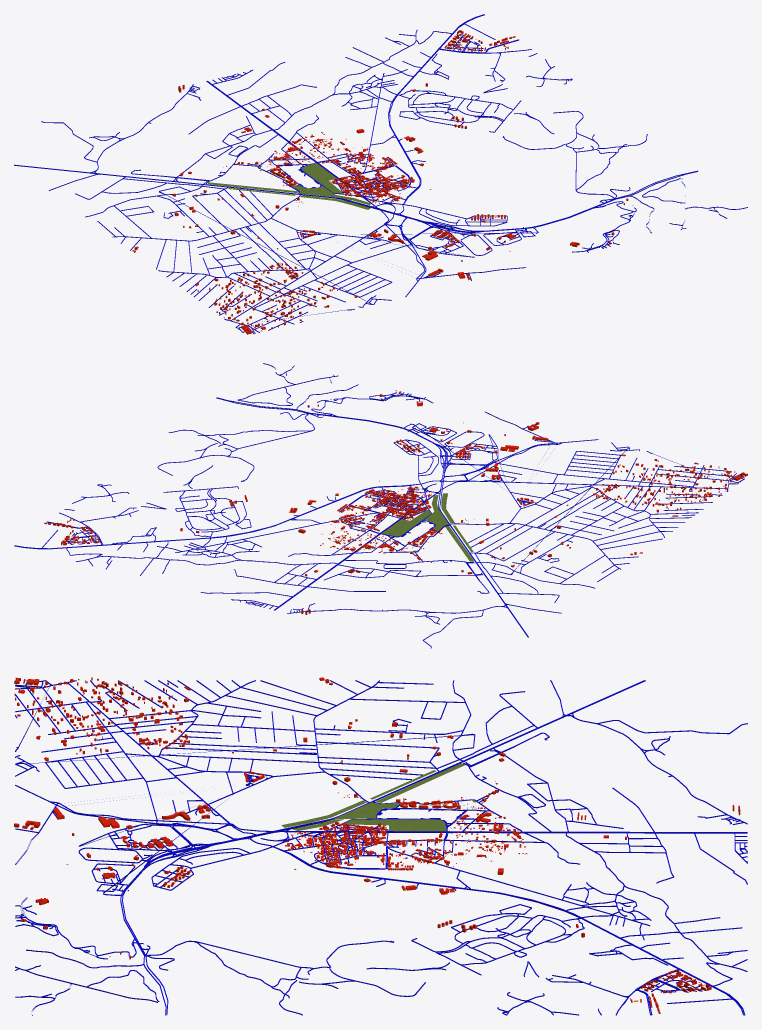
File: Yaafour_mini_map.glb
3 views of the same model, one above another, from view 1: azimuth 30°, elevation 25°; view 2: azimuth 150°, elevation 25°; view 3: azimuth 270°, elevation 25° (orthographic). The views are drawn at different scales.
Parts seen in each view (by area): view 1: road, Build, tree; view 2: road, Build, tree; view 3: road, Build, tree.
Boxes of the visible parts, x1,y1,x2,y2 form: road: (14, 14, 747, 333); Build: (132, 30, 633, 334); tree: (208, 158, 370, 209); road: (14, 363, 744, 648); Build: (44, 391, 747, 614); tree: (376, 493, 473, 561); road: (15, 680, 747, 1015); Build: (14, 677, 740, 1013); tree: (281, 763, 476, 831).
Size of what is drawn, in the model's own units: 6343 by 68.4 by 5862.
3 materials, 1 textured.
